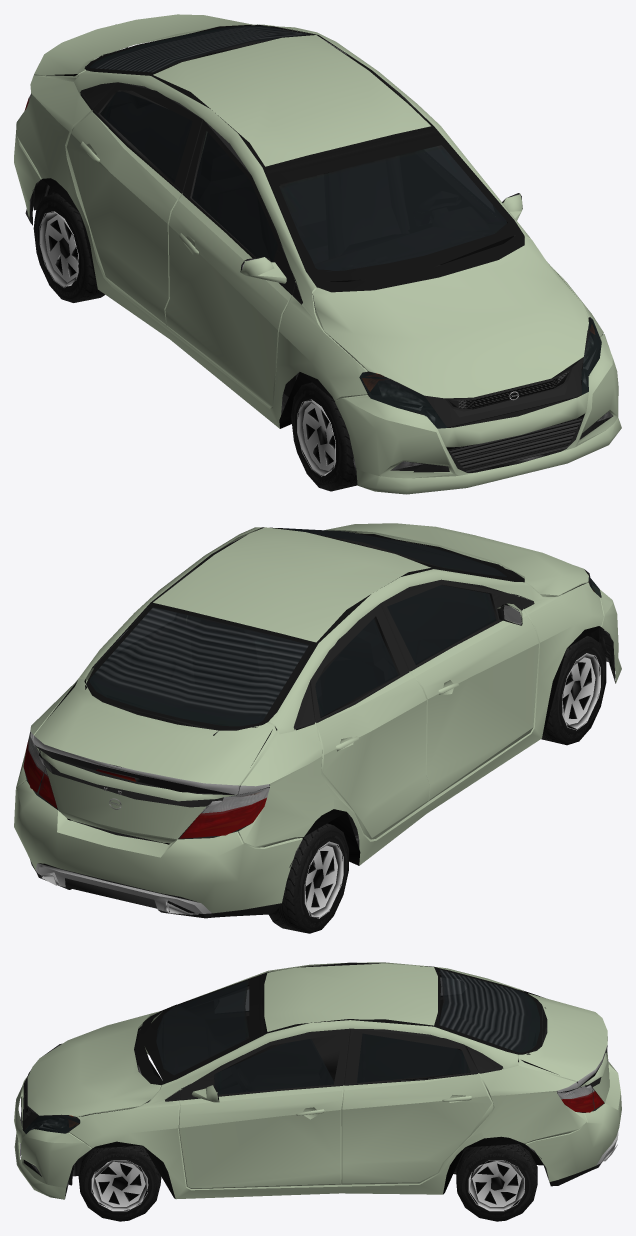
File: sedan.glb
3 views of the same model, one above another, from view 1: azimuth 30°, elevation 25°; view 2: azimuth 150°, elevation 25°; view 3: azimuth 270°, elevation 25° (orthographic). The views are drawn at different scales.
Parts seen in each view (by area): view 1: Kiri10_body_Kiri10_bodymat_0, Kiri10_glass_Body_UCB_Lights_and_Glass_Transperent_0, Kiri10_interior_UCB_Interiors_2_0, Kiri10_Bottom_UCB_BOTTOM_LT_0, Kiri10_WheelStock_FL_RB1c_Tire_1k_0, Kiri10_Brakelights_UCB_Lights_and_Glass_0; view 2: Kiri10_body_Kiri10_bodymat_0, Kiri10_glass_Body_UCB_Lights_and_Glass_Transperent_0, Kiri10_interior_UCB_Interiors_2_0, Kiri10_Bottom_UCB_BOTTOM_LT_0, Kiri10_WheelStock_FL_RB1c_Tire_1k_0, Kiri10_Brakelights_UCB_Lights_and_Glass_0; view 3: Kiri10_body_Kiri10_bodymat_0, Kiri10_glass_Body_UCB_Lights_and_Glass_Transperent_0, Kiri10_interior_UCB_Interiors_2_0, Kiri10_Bottom_UCB_BOTTOM_LT_0, Kiri10_WheelStock_FL_RB1c_Tire_1k_0, Kiri10_Brakelights_UCB_Lights_and_Glass_0.
Part boxes in pixels (x1=…): Kiri10_body_Kiri10_bodymat_0: x1=14, y1=14, x2=621, y2=494; Kiri10_glass_Body_UCB_Lights_and_Glass_Transperent_0: x1=24, y1=25, x2=601, y2=428; Kiri10_interior_UCB_Interiors_2_0: x1=92, y1=26, x2=513, y2=403; Kiri10_Bottom_UCB_BOTTOM_LT_0: x1=25, y1=24, x2=613, y2=484; Kiri10_WheelStock_FL_RB1c_Tire_1k_0: x1=33, y1=193, x2=357, y2=491; Kiri10_Brakelights_UCB_Lights_and_Glass_0: x1=362, y1=325, x2=594, y2=423; Kiri10_body_Kiri10_bodymat_0: x1=14, y1=523, x2=621, y2=913; Kiri10_glass_Body_UCB_Lights_and_Glass_Transperent_0: x1=23, y1=528, x2=601, y2=838; Kiri10_interior_UCB_Interiors_2_0: x1=91, y1=528, x2=507, y2=835; Kiri10_Bottom_UCB_BOTTOM_LT_0: x1=24, y1=527, x2=615, y2=918; Kiri10_WheelStock_FL_RB1c_Tire_1k_0: x1=269, y1=636, x2=606, y2=933; Kiri10_Brakelights_UCB_Lights_and_Glass_0: x1=24, y1=590, x2=593, y2=837; Kiri10_body_Kiri10_bodymat_0: x1=14, y1=962, x2=621, y2=1199; Kiri10_glass_Body_UCB_Lights_and_Glass_Transperent_0: x1=24, y1=969, x2=603, y2=1133; Kiri10_interior_UCB_Interiors_2_0: x1=157, y1=970, x2=539, y2=1093; Kiri10_Bottom_UCB_BOTTOM_LT_0: x1=20, y1=962, x2=618, y2=1198; Kiri10_WheelStock_FL_RB1c_Tire_1k_0: x1=78, y1=1144, x2=537, y2=1221; Kiri10_Brakelights_UCB_Lights_and_Glass_0: x1=31, y1=1087, x2=603, y2=1129.
Size of the model in its own units: 2.12 by 1.84 by 5.4.
Materials: 7 (6 with a texture image).
